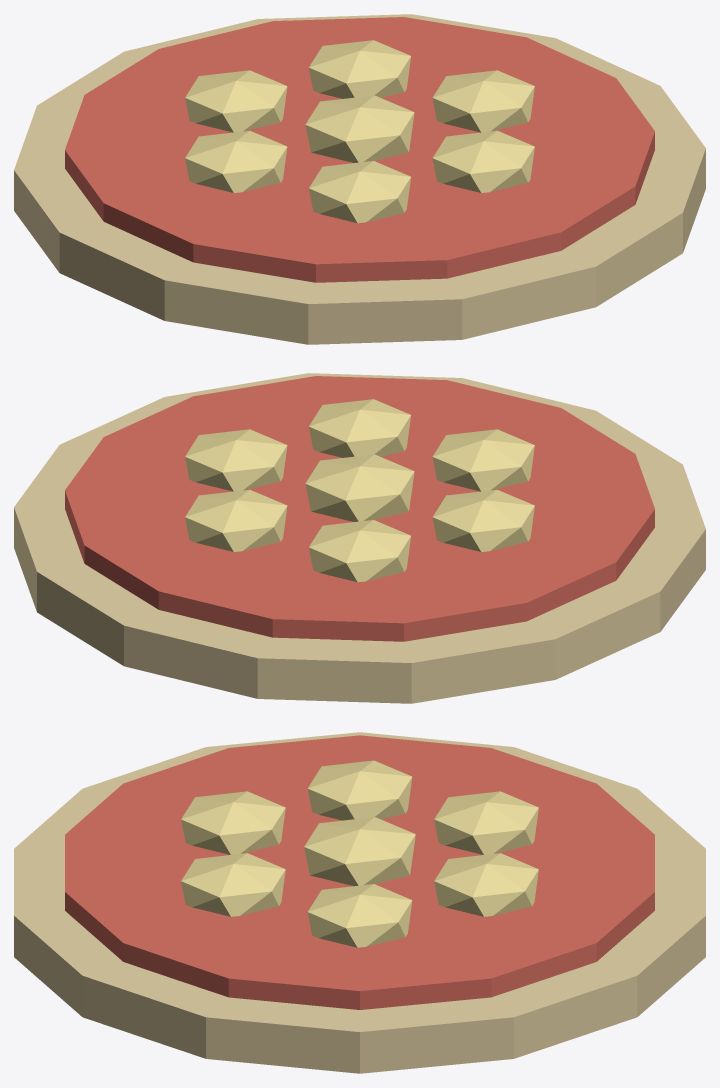
Rendered from drop_pizza_raw.glb.
The picture shows the model from 3 angles, top to bottom: view 1: azimuth 30°, elevation 25°; view 2: azimuth 150°, elevation 25°; view 3: azimuth 270°, elevation 25°; orthographic projection. The views are drawn at different scales.
Parts seen in each view (by area): view 1: drop_pizza_raw; view 2: drop_pizza_raw; view 3: drop_pizza_raw.
Part boxes in pixels (x1,y1,x2,y2): drop_pizza_raw: (14,14,705,344); drop_pizza_raw: (14,373,705,703); drop_pizza_raw: (14,732,705,1073).
Bounding box in the file's own units: 0.34 × 0.05 × 0.3315.
